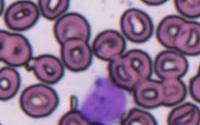L: (80, 73, 128, 124)
